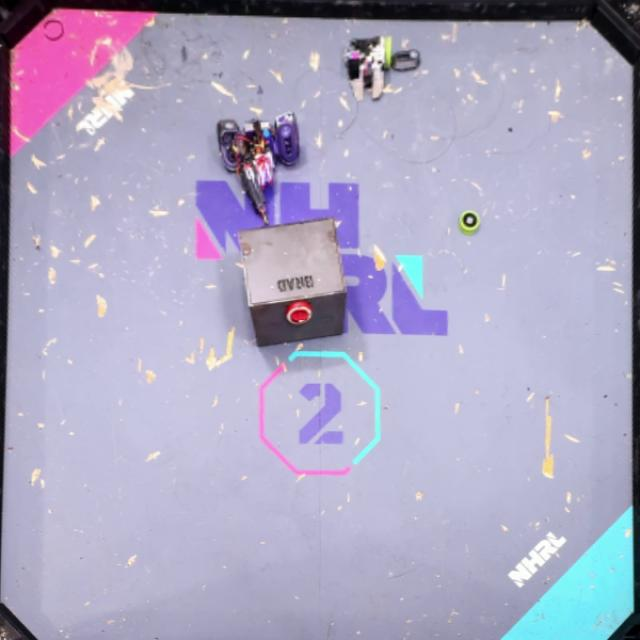housebot: (238, 218, 347, 347)
robot: (218, 111, 300, 225), (346, 35, 393, 103)
